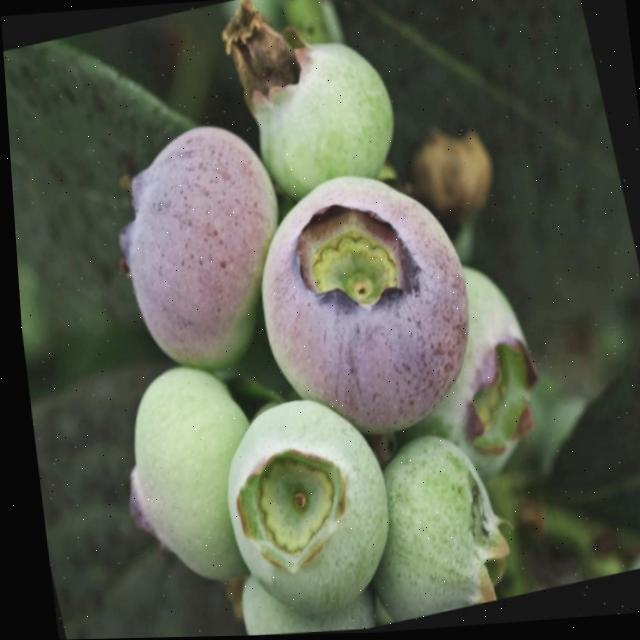Semi-RipeBlueBerry: (217, 147, 512, 465), (83, 108, 325, 391)
UnripeBlueBerry: (192, 377, 425, 637), (93, 350, 295, 604), (219, 19, 419, 218), (338, 420, 527, 630)
